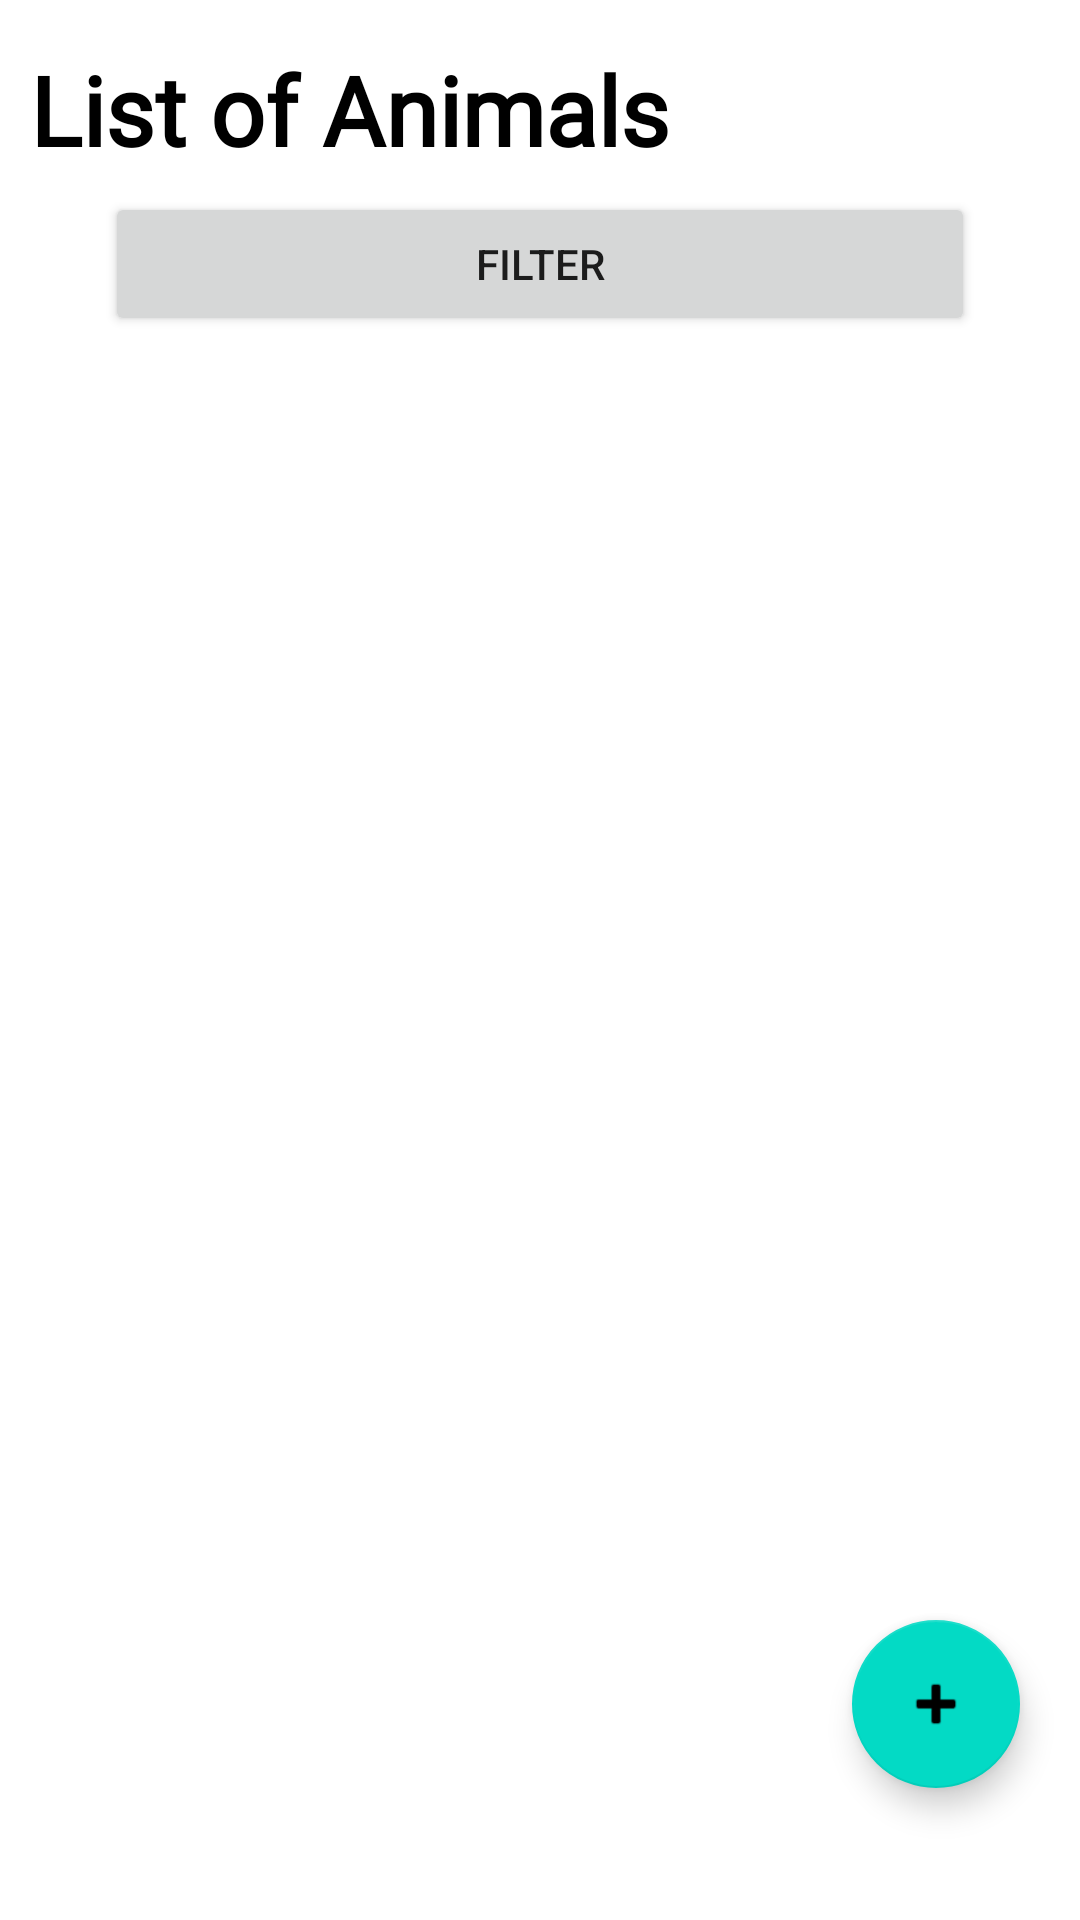

Where to tap for icons on this 1080x1920 app screen, as point (x, y):
add: point (936, 1704)
